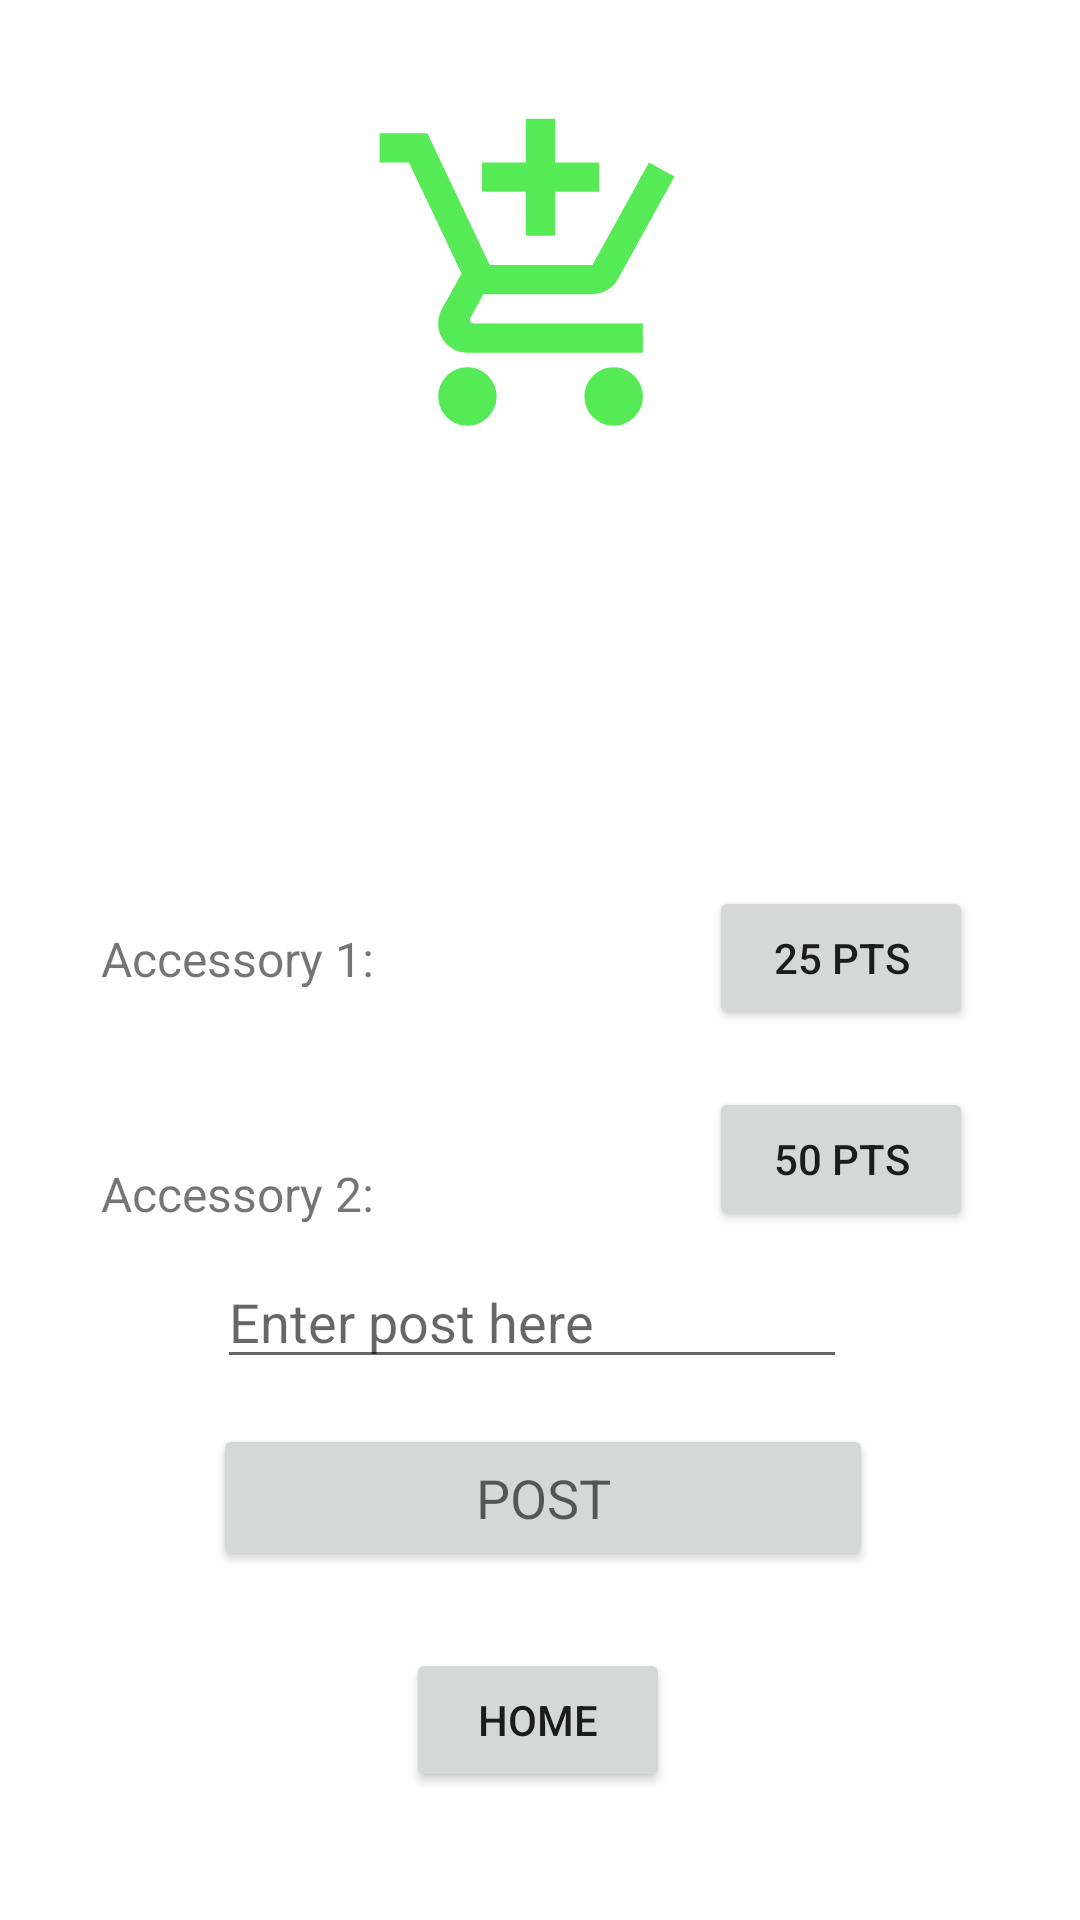

Where to tap for icons on this 1080w x 1920h app screen, as [x,y]:
shopicon: [527,272]
